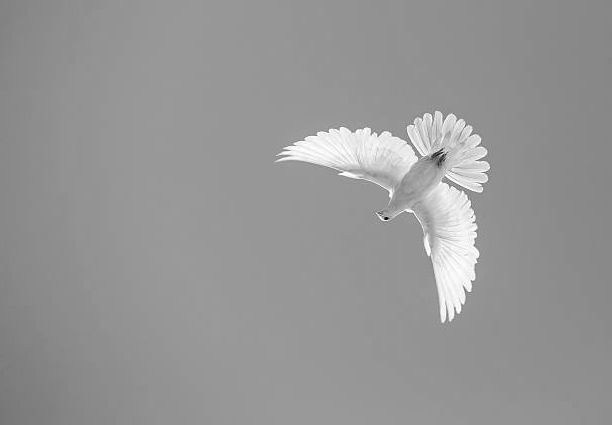Bird: (271, 106, 491, 325)
